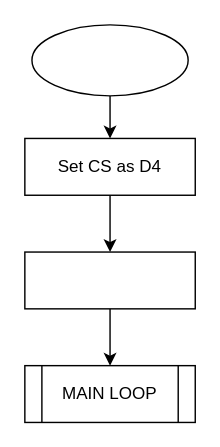
This 220x447 diagram has some shape labels left out. The centre of each missing label's shape, as x and y in pixels:
Drive CS HIGH: [109,280]
Start: [109,59]
